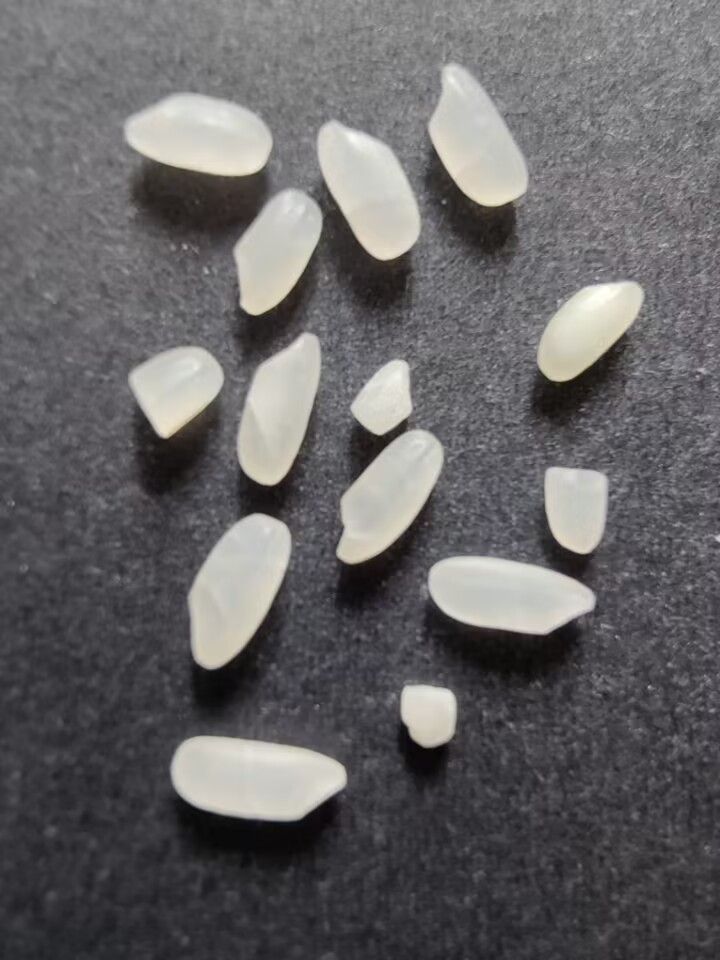broken: (124, 343, 223, 443), (537, 462, 613, 559), (345, 357, 420, 439), (396, 681, 458, 751)
rice: (183, 508, 294, 672), (166, 733, 355, 828), (327, 425, 448, 570), (423, 55, 534, 209), (315, 115, 425, 262), (232, 327, 325, 490), (423, 554, 602, 638), (117, 90, 278, 177), (532, 276, 647, 387), (232, 187, 325, 317)
